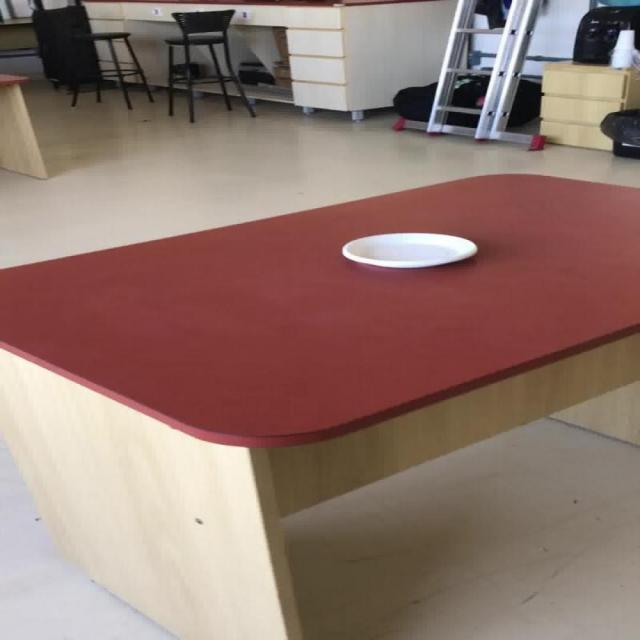Plate: (340, 232, 477, 268)
